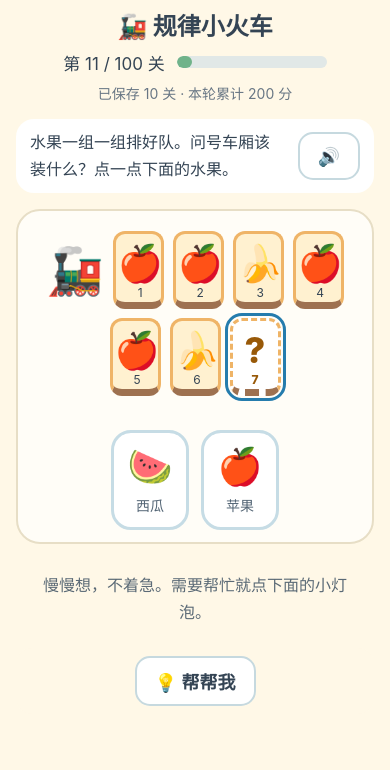
Test case: GamePuzzle › keeps the solved board on a failed save and retries the same score without advancing
The width and height of the screenshot is (390, 770).
Click the button "🍎 苹果": click(240, 480) [201, 430, 279, 530]
(page scrolled)
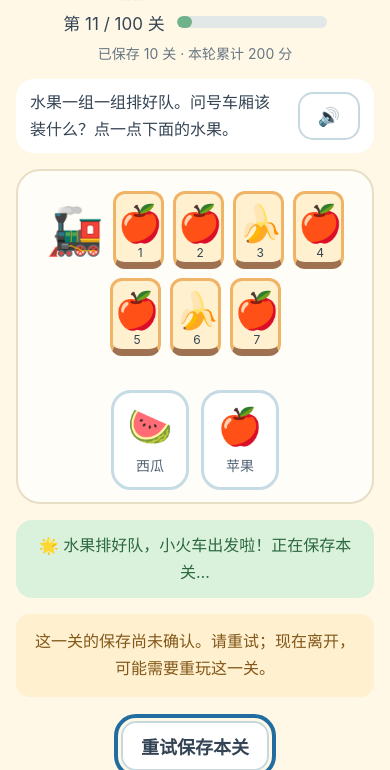
Expected: the button "下一关" is not shown
Now the message "这一关的保存尚未确认。请重试；现在离开，可能需要重玩这一关。" is shown, box [16, 614, 374, 697]
Click the button "重试保存本关": click(195, 746) [121, 721, 269, 769]
(page scrolled)
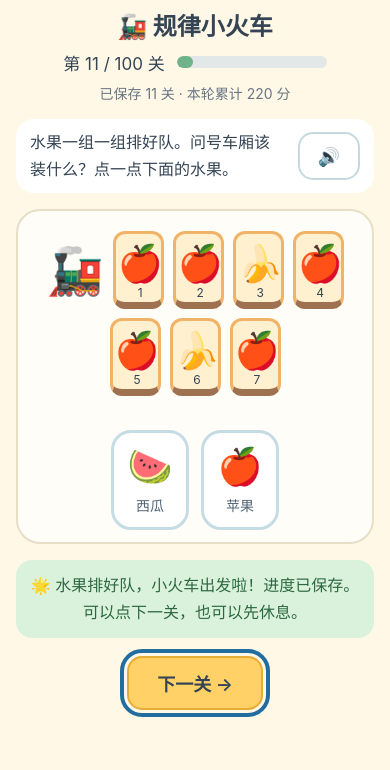
Now the button "下一关 →" is shown, box [127, 656, 263, 710]
Now the message "这一关的保存尚未确认。请重试；现在离开，可能需要重玩这一关。" is gone
